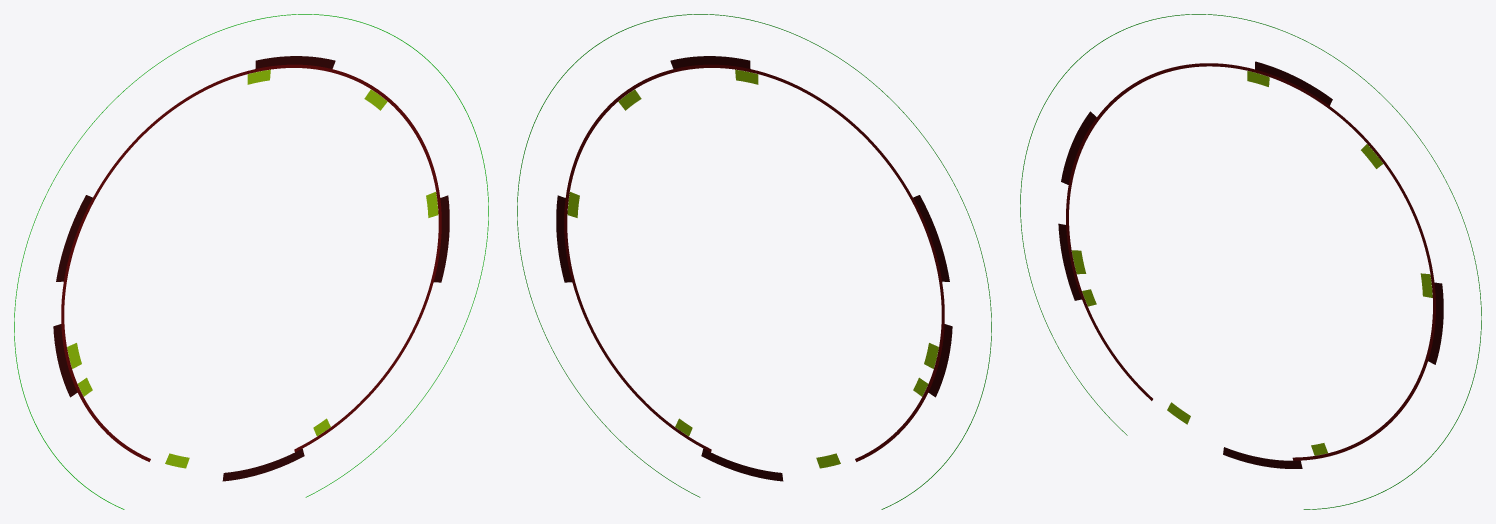
Rendered from LoadingBar_Mesh.fbx.
The picture shows the model from 3 angles, left to right: view 1: azimuth 30°, elevation 25°; view 2: azimuth 150°, elevation 25°; view 3: azimuth 330°, elevation 25°; orthographic projection. The views are drawn at different scales.
Visible parts, largest first — view 1: normal2; view 2: normal2; view 3: normal2.
Boxes of the visible parts, x1=… form: normal2: x1=14, y1=14, x2=488, y2=509; normal2: x1=517, y1=14, x2=991, y2=509; normal2: x1=1020, y1=14, x2=1481, y2=509.
Size of the model in its own units: 2.97 by 2.93 by 0.
